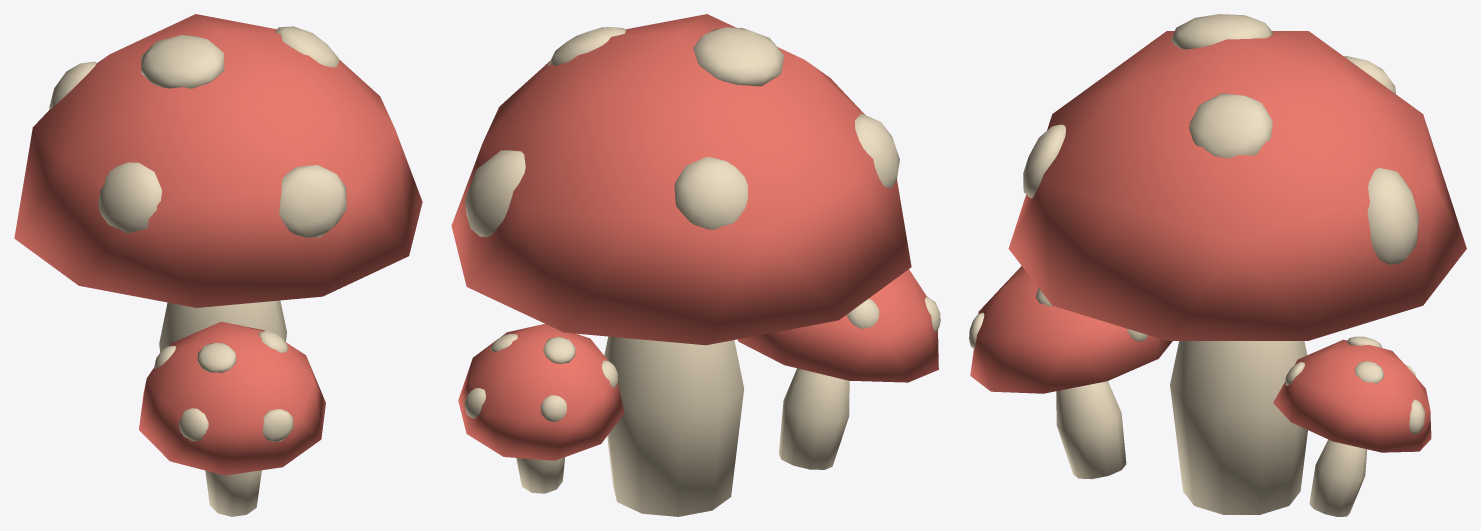
Rendered from Mushroom.fbx.
3 renders of one model, left to right at view 1: azimuth 30°, elevation 25°; view 2: azimuth 150°, elevation 25°; view 3: azimuth 270°, elevation 25°, orthographic. The views are drawn at different scales.
Parts seen in each view (by area): view 1: Cylinder; view 2: Cylinder; view 3: Cylinder.
Part boxes in pixels (x1,y1,x2,y2): Cylinder: (14,14,422,516); Cylinder: (451,14,940,516); Cylinder: (969,14,1466,516).
Bounding box in the file's own units: 294 × 343 × 335.
